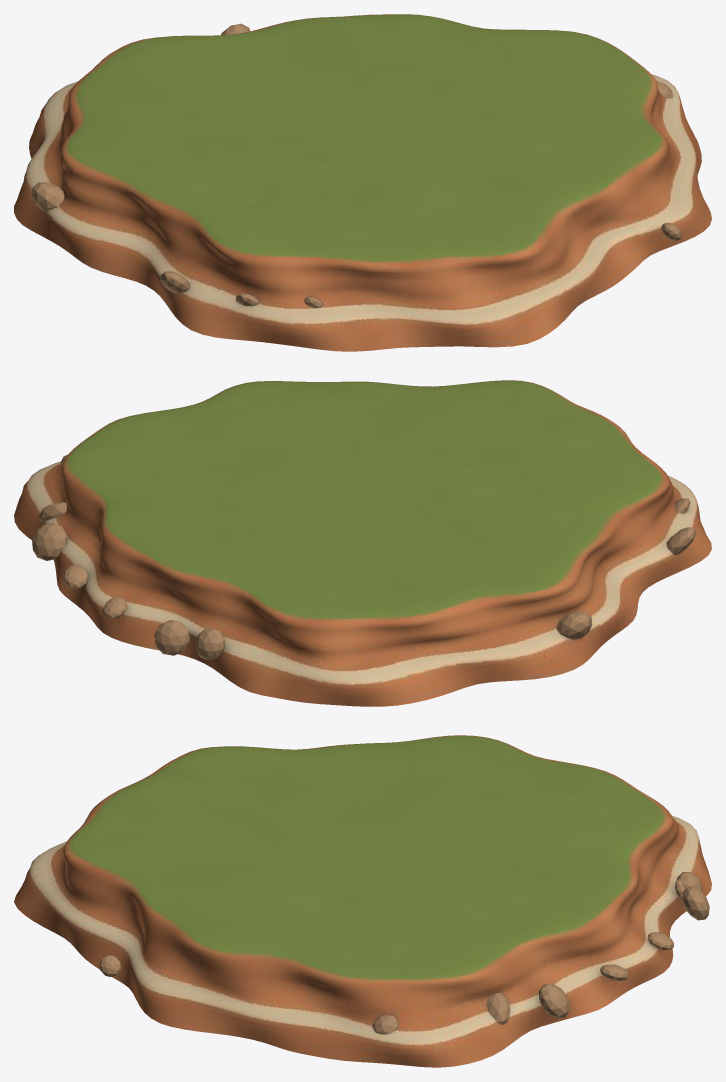
Rendered from island.glb.
3 renders of one model, top to bottom at view 1: azimuth 30°, elevation 25°; view 2: azimuth 150°, elevation 25°; view 3: azimuth 270°, elevation 25°, orthographic. The views are drawn at different scales.
Parts seen in each view (by area): view 1: island; view 2: island; view 3: island.
Part boxes in pixels (bbox=[...]): island: bbox=[14, 14, 711, 351]; island: bbox=[14, 380, 711, 706]; island: bbox=[14, 735, 711, 1067].
Size of the model in its own units: 50.73 by 5.52 by 52.27.
2 materials, 1 textured.
